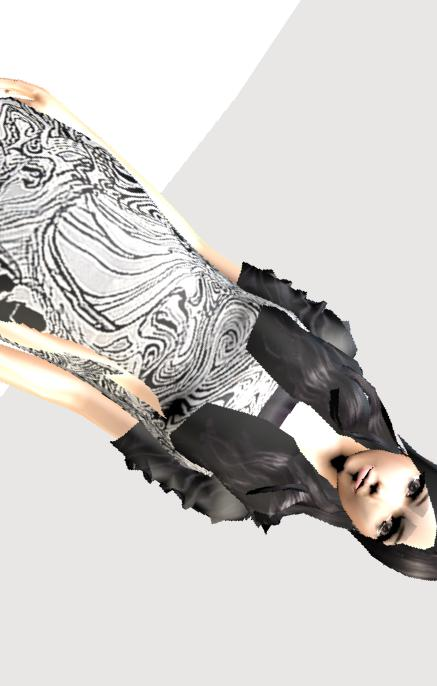clip: (114, 366, 173, 418)
